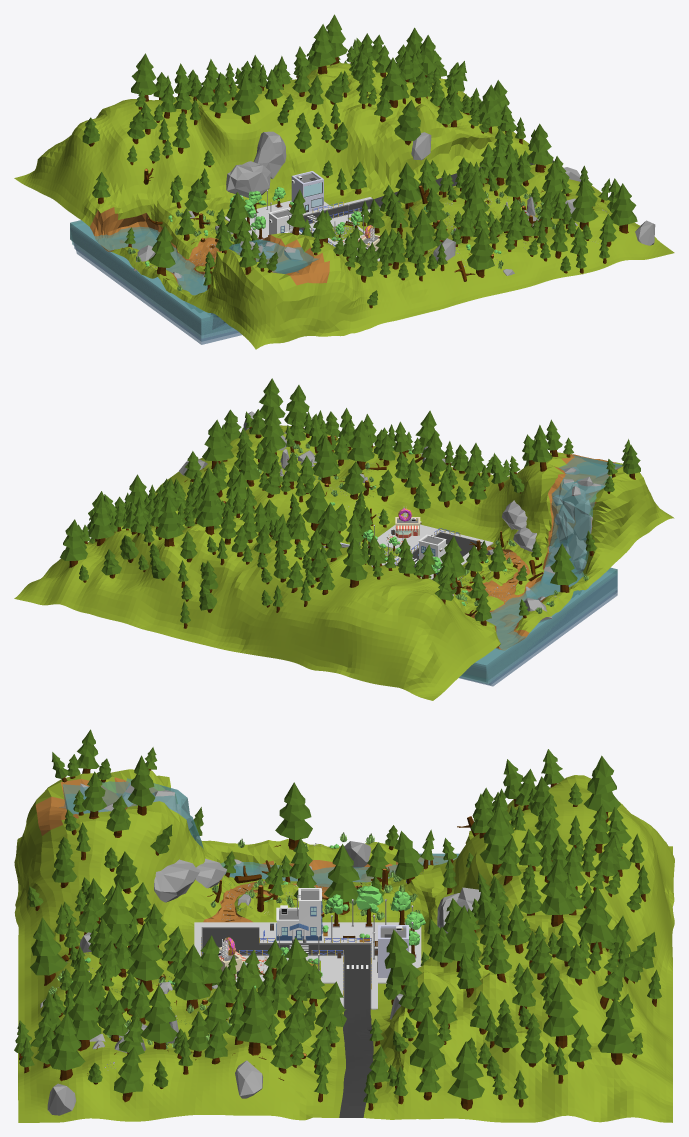
File: low_poly_scene_forest_waterfall.glb
3 views of the same model, one above another, from view 1: azimuth 30°, elevation 25°; view 2: azimuth 150°, elevation 25°; view 3: azimuth 270°, elevation 25° (orthographic). The views are drawn at different scales.
Parts seen in each view (by area): view 1: Landskape plane, River 2 box layer 1 upper_Water layer 1_0, River 2 box layer 3_Water layer 3_0, River 2 box layer 2_Water layer 2_0, Town plane, River 2 box layer 4_Water layer 4_0, Rock MEGA, Rock MEGA001, River 1 box layer 1, Office_Office walls_0, Tree Maple, Tree Spruce big 010_Spruce leaves_0 (+20 smaller); view 2: Landskape plane, River 2 box layer 1 upper_Water layer 1_0, Waterfall, River 2 box layer 4_Water layer 4_0, River 2 box layer 3_Water layer 3_0, Town plane, River 1 box layer 1, Tree Spruce big 007_Spruce leaves_0, Tree Spruce big 021_Spruce leaves_0, Tree Spruce big 006_Spruce leaves_0, Tree Spruce big 022_Spruce leaves_0, Tree Spruce big 017_Spruce leaves_0 (+15 smaller); view 3: Landskape plane, Town plane, Tree Maple, Building, River 2 box layer 1 upper_Water layer 1_0, Rock MEGA003, Tree Spruce big 017_Spruce leaves_0, Tree Spruce big 002_Spruce leaves_0, Tree Spruce big 018_Spruce leaves_0, Tree Spruce big 010_Spruce leaves_0, Tree Spruce big 007_Spruce leaves_0, Tree Spruce big 008_Spruce leaves_0 (+39 smaller).
Boxes of the visible parts, left/top/right/bottom form: Landskape plane: left=14, top=60, right=674, bottom=349; River 2 box layer 1 upper_Water layer 1_0: left=70, top=220, right=231, bottom=335; River 2 box layer 3_Water layer 3_0: left=71, top=228, right=239, bottom=341; River 2 box layer 2_Water layer 2_0: left=70, top=222, right=235, bottom=338; Town plane: left=225, top=197, right=380, bottom=261; River 2 box layer 4_Water layer 4_0: left=70, top=229, right=241, bottom=344; Rock MEGA: left=226, top=161, right=271, bottom=197; Rock MEGA001: left=253, top=131, right=286, bottom=178; River 1 box layer 1: left=240, top=243, right=319, bottom=273; Office_Office walls_0: left=291, top=171, right=323, bottom=211; Tree Maple: left=229, top=187, right=285, bottom=238; Tree Spruce big 010_Spruce leaves_0: left=467, top=229, right=494, bottom=270; Landskape plane: left=14, top=425, right=674, bottom=700; River 2 box layer 1 upper_Water layer 1_0: left=461, top=567, right=617, bottom=681; Waterfall: left=545, top=480, right=604, bottom=576; River 2 box layer 4_Water layer 4_0: left=459, top=575, right=617, bottom=686; River 2 box layer 3_Water layer 3_0: left=459, top=573, right=617, bottom=684; Town plane: left=367, top=524, right=493, bottom=579; River 1 box layer 1: left=558, top=455, right=622, bottom=488; Tree Spruce big 007_Spruce leaves_0: left=202, top=419, right=230, bottom=461; Tree Spruce big 021_Spruce leaves_0: left=196, top=485, right=223, bottom=527; Tree Spruce big 006_Spruce leaves_0: left=312, top=435, right=339, bottom=477; Tree Spruce big 022_Spruce leaves_0: left=155, top=496, right=183, bottom=539; Tree Spruce big 017_Spruce leaves_0: left=88, top=496, right=114, bottom=539; Landskape plane: left=14, top=769, right=674, bottom=1122; Town plane: left=194, top=922, right=421, bottom=1009; Tree Maple: left=325, top=885, right=425, bottom=955; Building: left=276, top=888, right=321, bottom=940; River 2 box layer 1 upper_Water layer 1_0: left=220, top=853, right=459, bottom=886; Rock MEGA003: left=154, top=859, right=200, bottom=902; Tree Spruce big 017_Spruce leaves_0: left=543, top=980, right=579, bottom=1036; Tree Spruce big 002_Spruce leaves_0: left=275, top=782, right=312, bottom=840; Tree Spruce big 018_Spruce leaves_0: left=597, top=997, right=635, bottom=1053; Tree Spruce big 010_Spruce leaves_0: left=30, top=917, right=67, bottom=975; Tree Spruce big 007_Spruce leaves_0: left=236, top=986, right=272, bottom=1043; Tree Spruce big 008_Spruce leaves_0: left=47, top=1012, right=85, bottom=1070.
Size of the model in its own units: 120 by 44.05 by 120.
